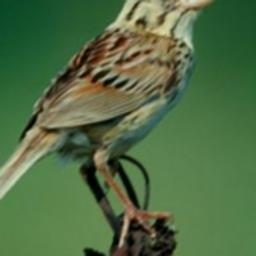Sparrow: (0, 0, 227, 250)
